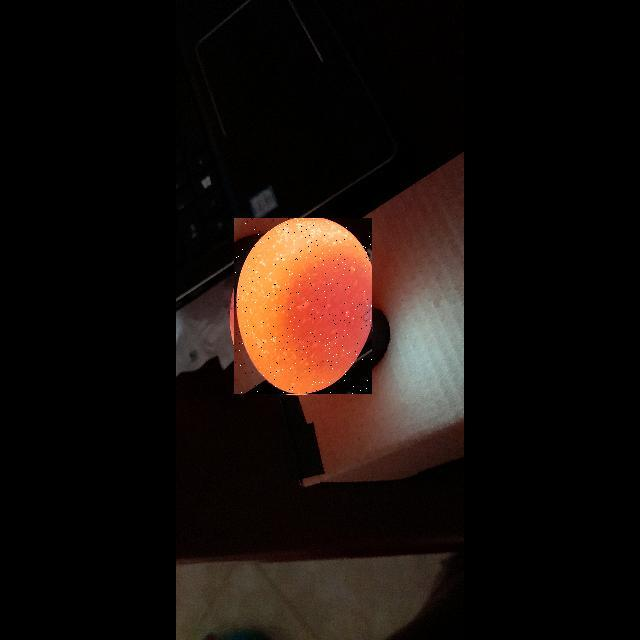Fertile: (234, 218, 372, 394)
